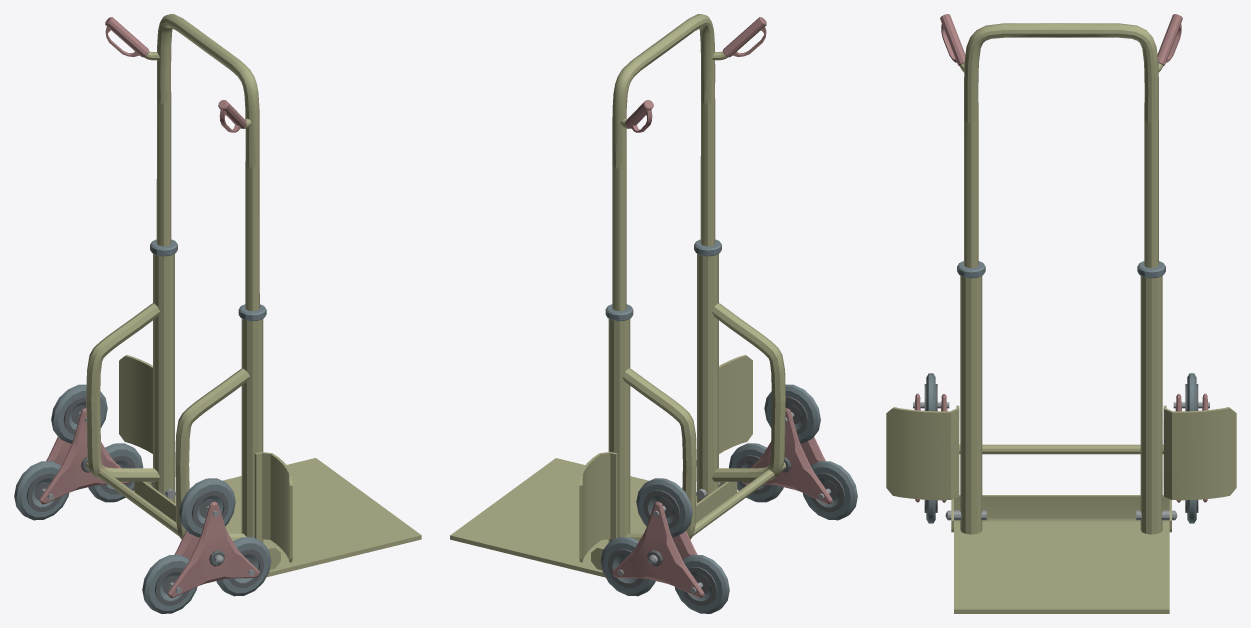
Rendered from Package_Trolley_1.fbx.
3 renders of one model, left to right at view 1: azimuth 30°, elevation 25°; view 2: azimuth 150°, elevation 25°; view 3: azimuth 270°, elevation 25°, orthographic.
Parts seen in each view (by area): view 1: pCube45; view 2: pCube45; view 3: pCube45.
Boxes of the visible parts, x1=… form: pCube45: x1=14, y1=14, x2=421, y2=613; pCube45: x1=450, y1=14, x2=857, y2=613; pCube45: x1=886, y1=14, x2=1236, y2=613.
Bounding box in the file's own units: 0.5296 × 0.8774 × 0.5448.
